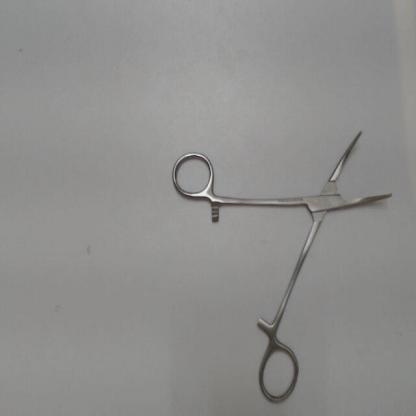Crile Artery Forceps: (169, 121, 396, 409)
